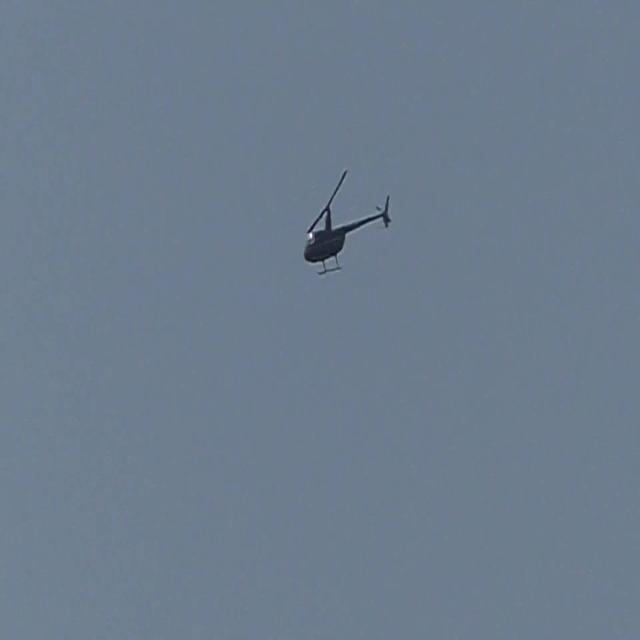CIV_HELO: (302, 191, 393, 277)
